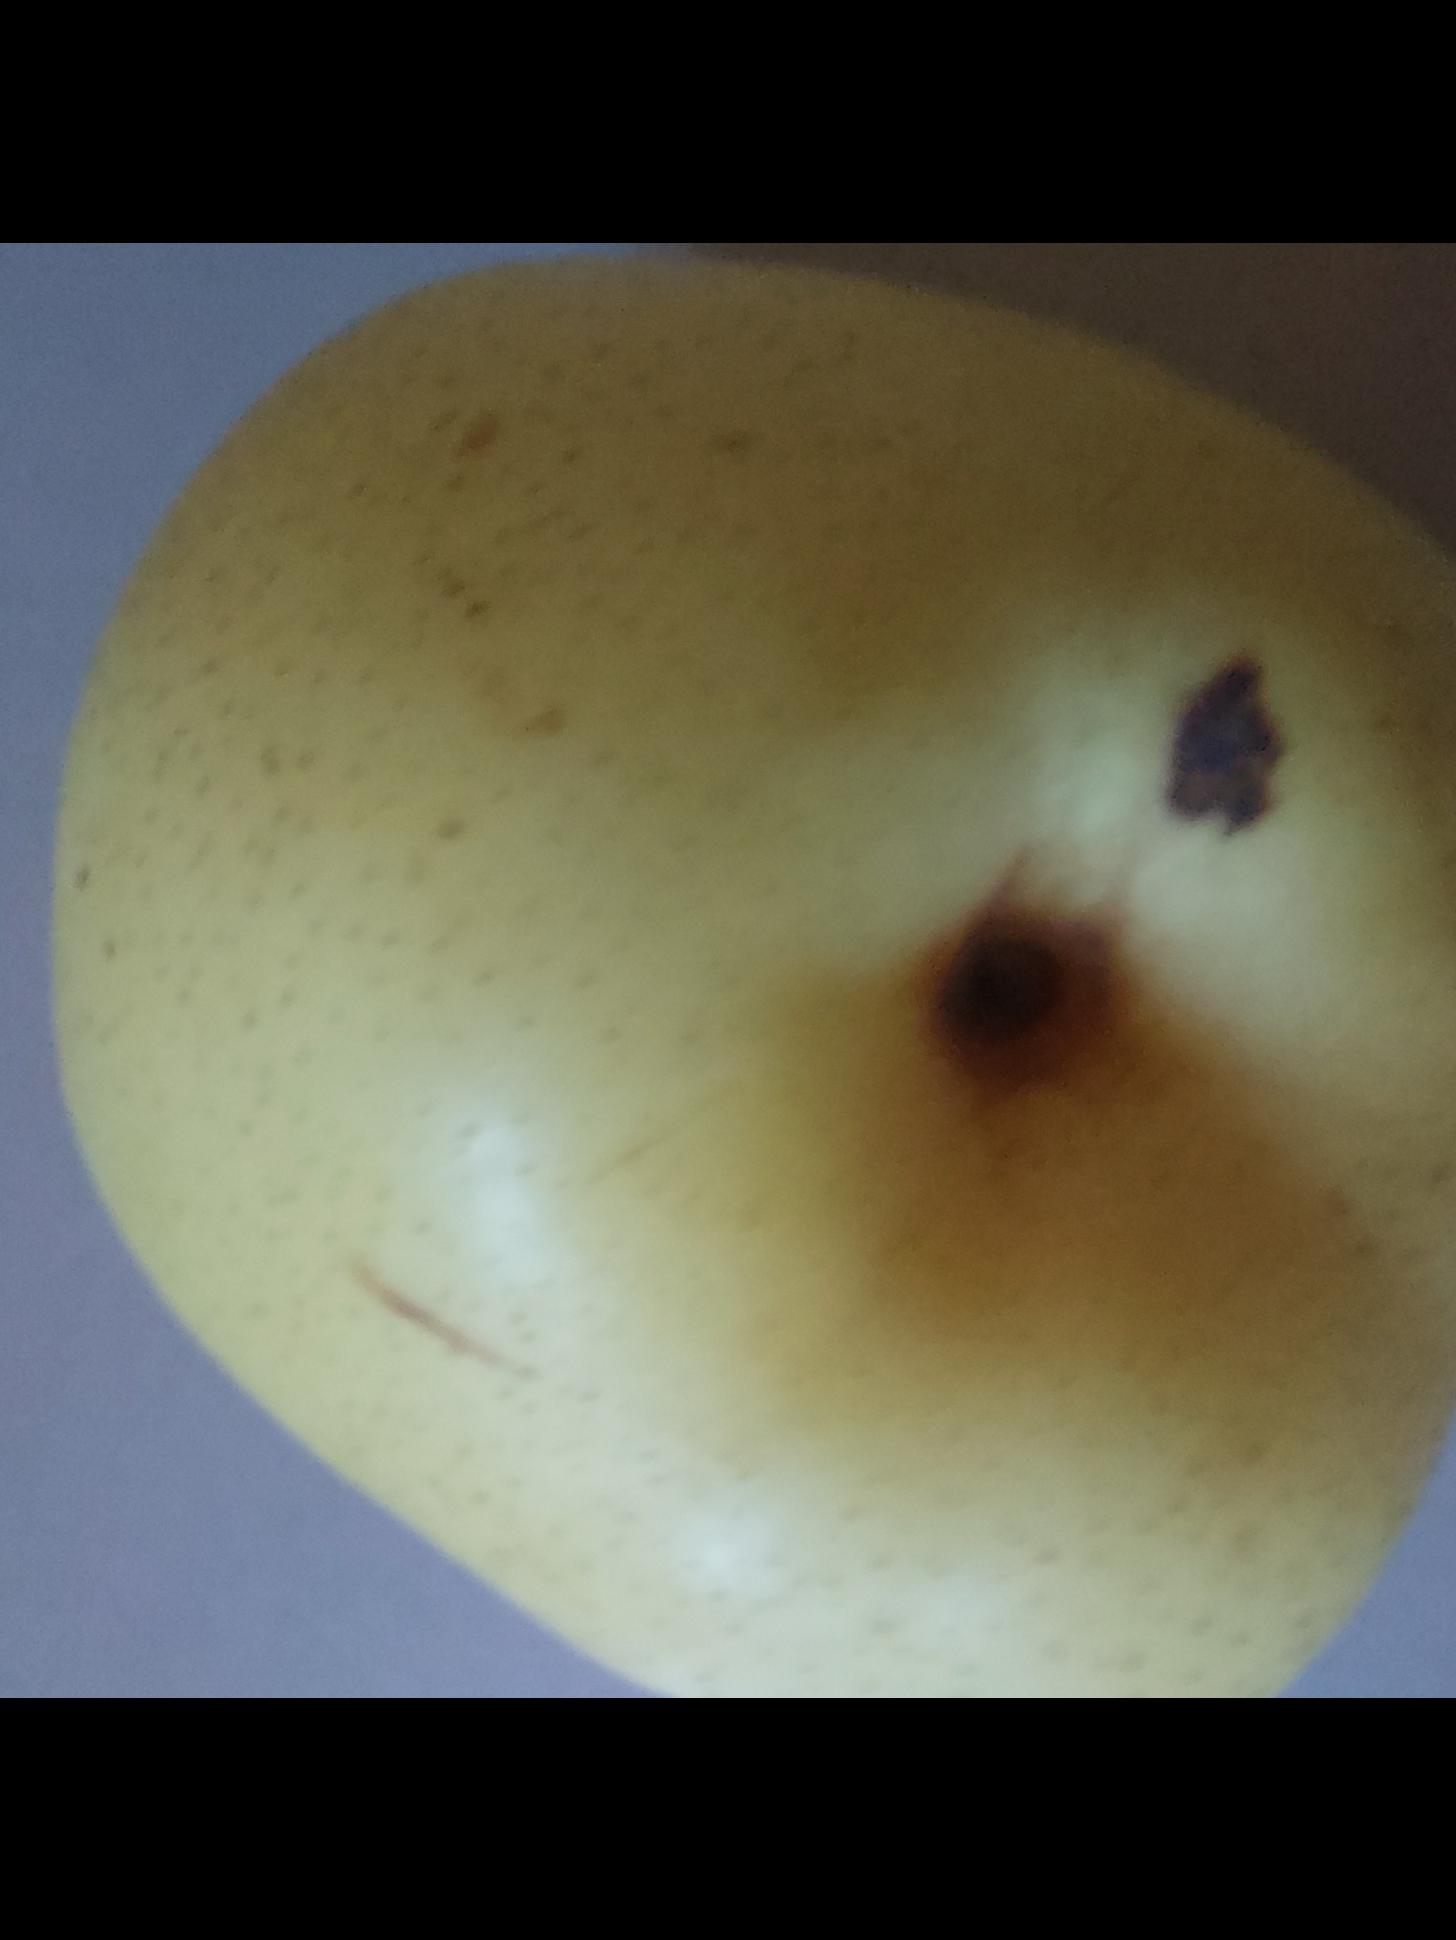Good Pear: (14, 254, 1456, 1698)
